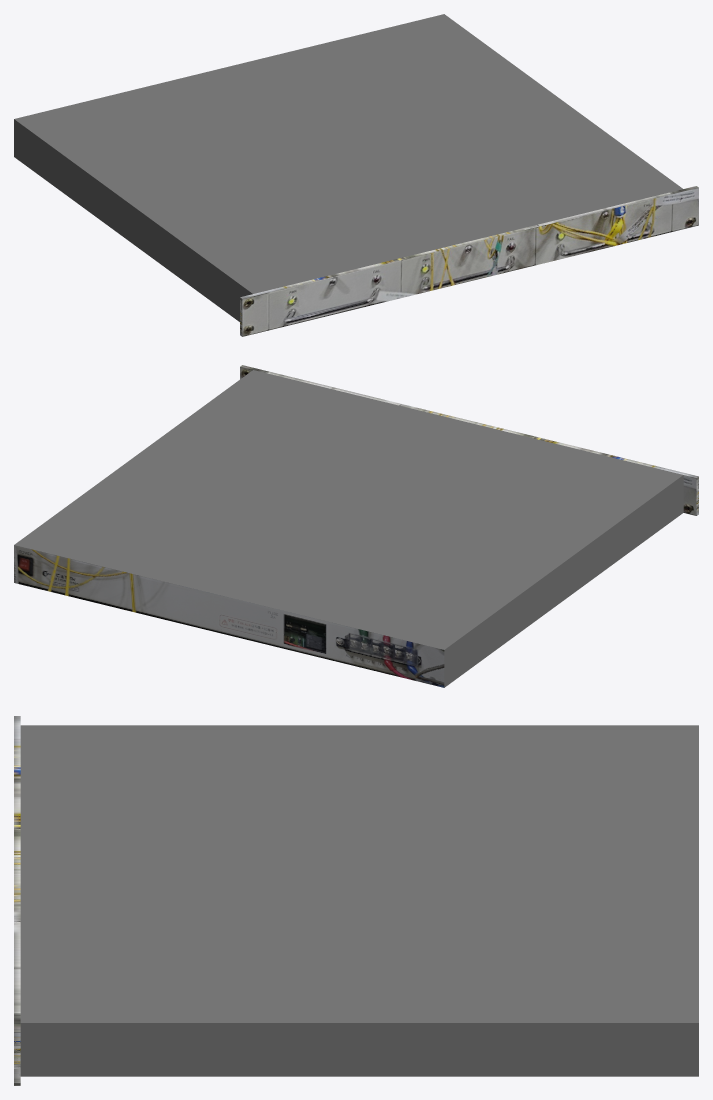
Rendered from C-MUX_RT2.fbx.
3 renders of one model, top to bottom at view 1: azimuth 30°, elevation 25°; view 2: azimuth 150°, elevation 25°; view 3: azimuth 270°, elevation 25°, orthographic. The views are drawn at different scales.
Parts seen in each view (by area): view 1: C-MUX_RT2; view 2: C-MUX_RT2; view 3: C-MUX_RT2.
Part boxes in pixels (bbox=[...]): C-MUX_RT2: bbox=[14, 14, 698, 336]; C-MUX_RT2: bbox=[14, 365, 698, 687]; C-MUX_RT2: bbox=[14, 716, 698, 1085].
Bounding box in the file's own units: 560 × 44.45 × 513.
Materials: 3 (2 with a texture image).
